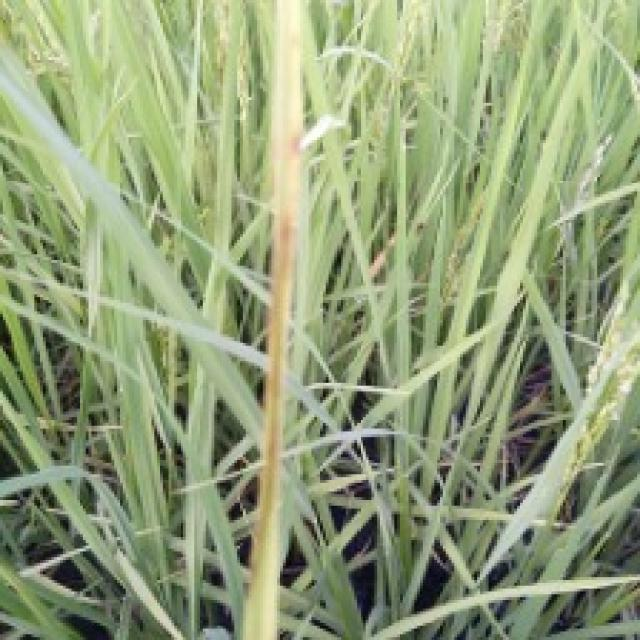Unhealthy: (250, 0, 303, 547)
